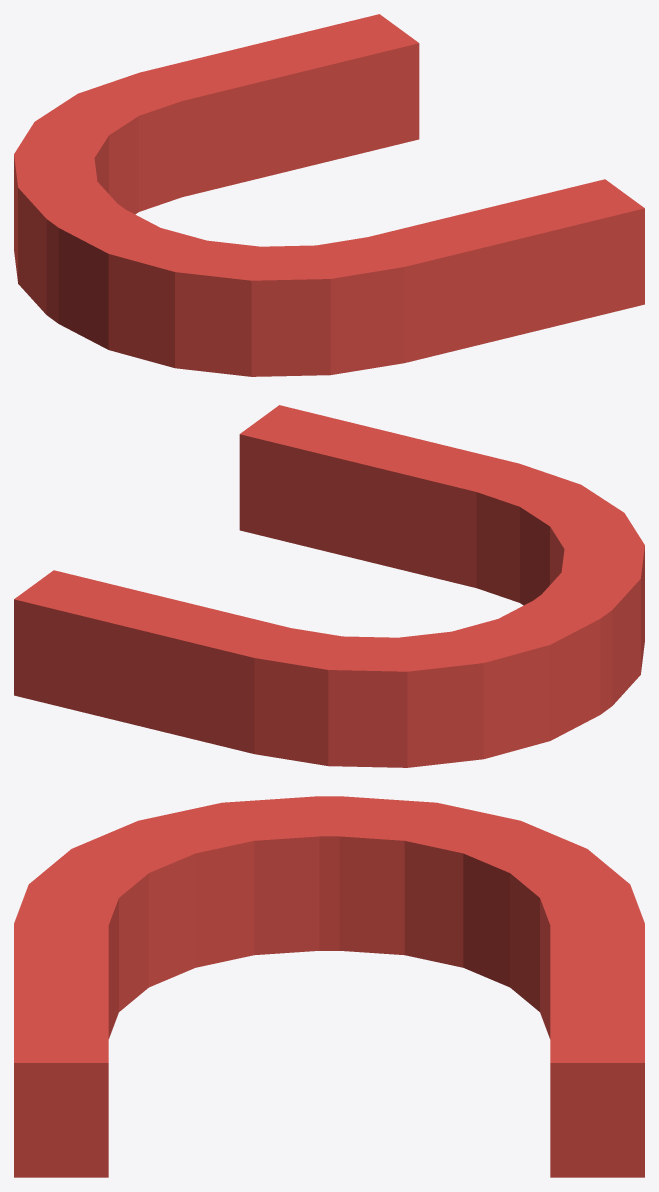
File: Collector_tool.fbx
3 renders of one model, top to bottom at view 1: azimuth 30°, elevation 25°; view 2: azimuth 150°, elevation 25°; view 3: azimuth 270°, elevation 25°, orthographic. The views are drawn at different scales.
Parts seen in each view (by area): view 1: Cube; view 2: Cube; view 3: Cube.
Part boxes in pixels (left/top/right/bottom): Cube: left=14, top=14, right=644, bottom=376; Cube: left=14, top=405, right=644, bottom=767; Cube: left=14, top=796, right=644, bottom=1177.
Size of the model in its own units: 200 by 40 by 200.
